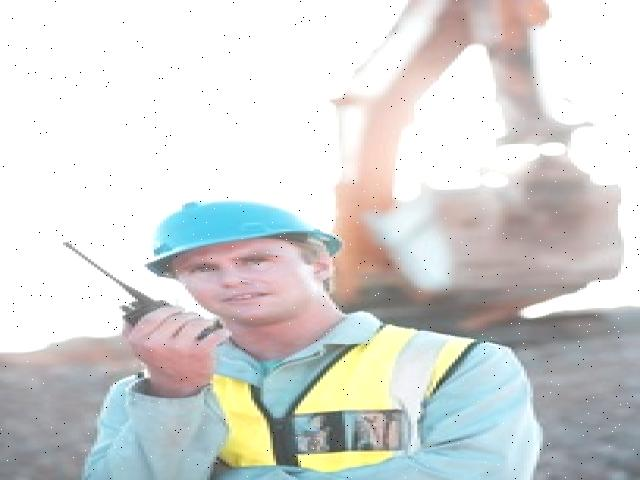Helmet: (130, 192, 346, 282)
